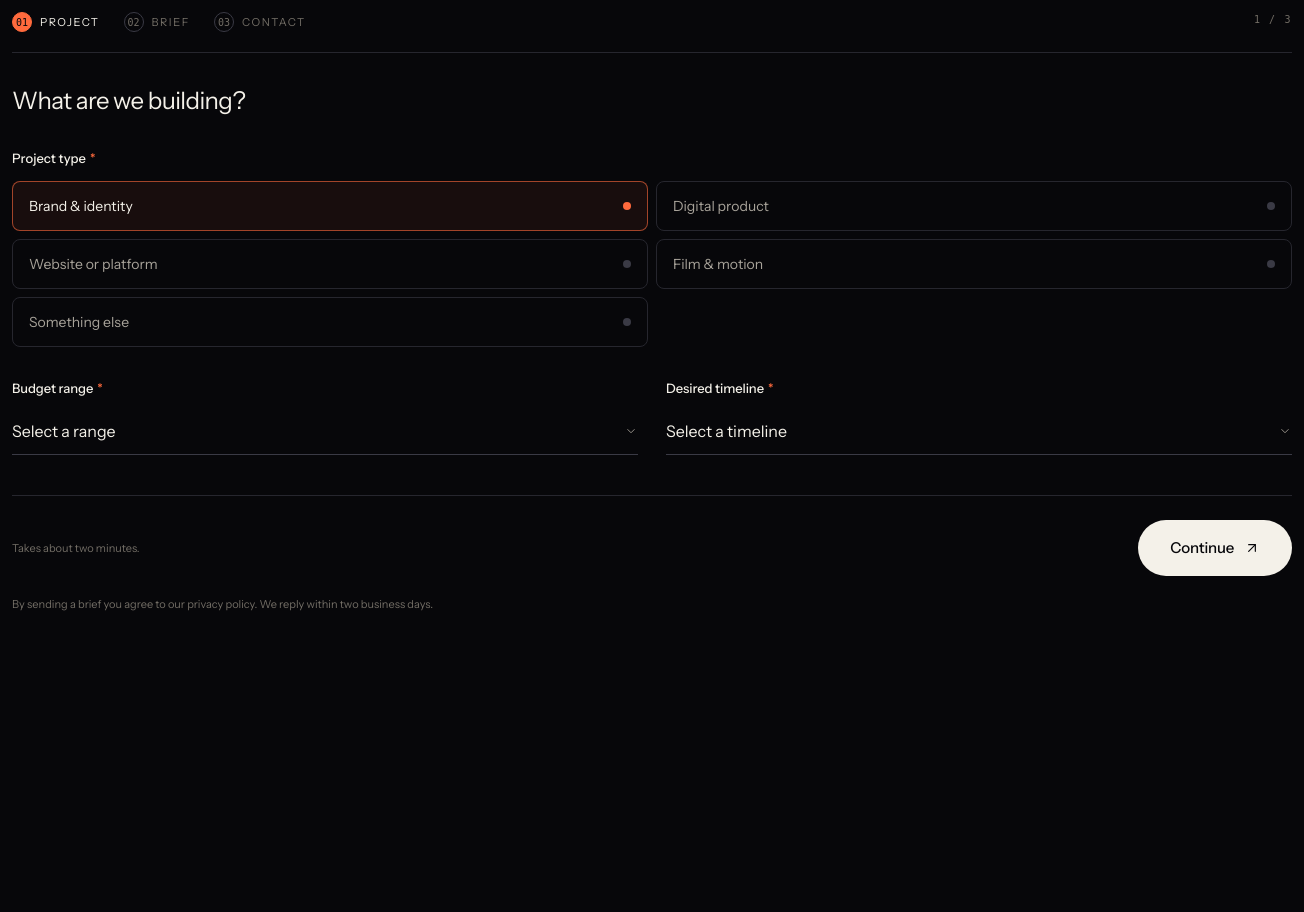
Test: ProjectInquiryForm › blocks progress until required fields on the current step are valid
The image size is (1304, 912).
Click the button "Continue" at (1215, 548), box [1138, 520, 1292, 576]
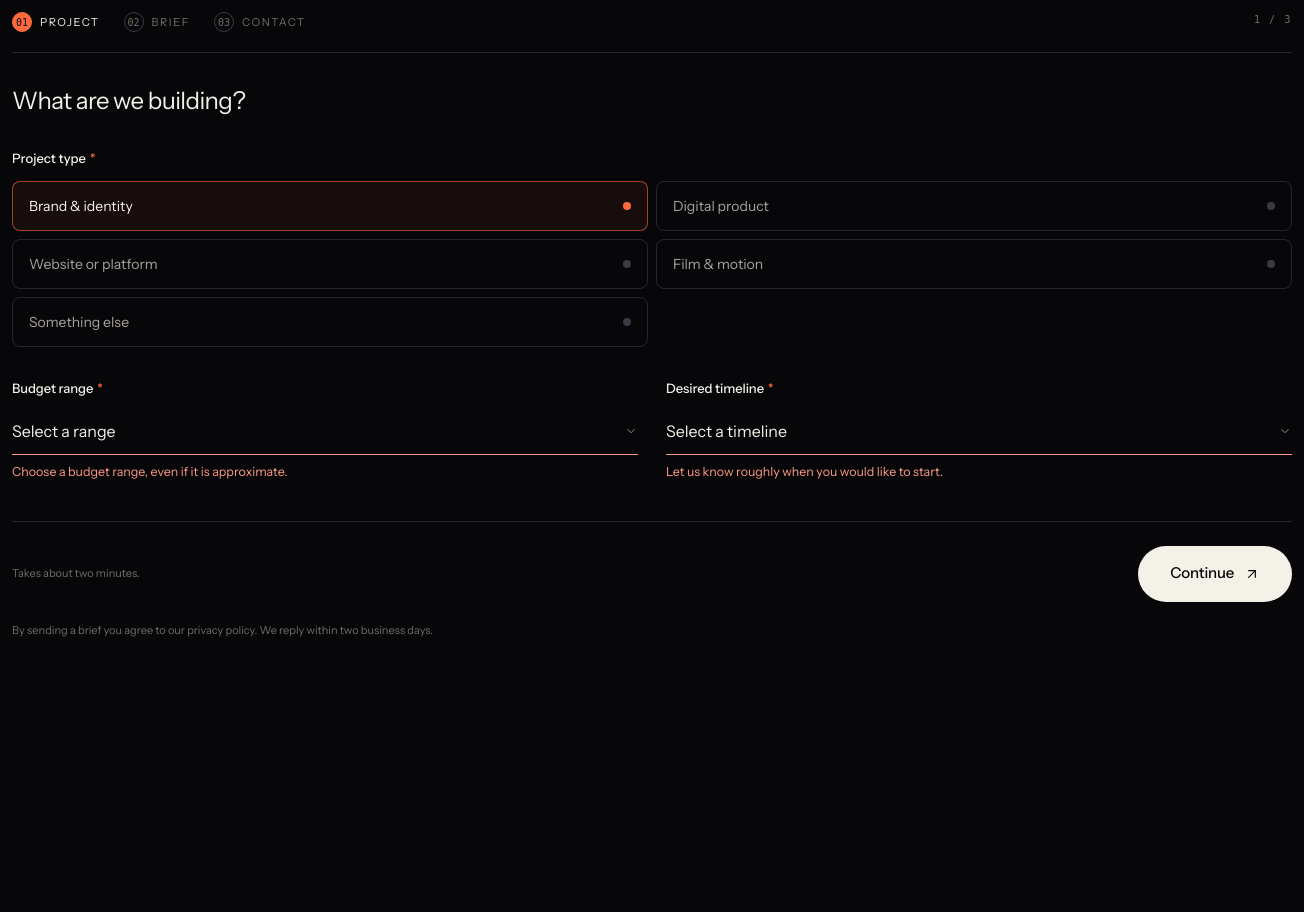
expect the heading "What are we building?" is shown: met, box [12, 86, 245, 115]
expect the text "Choose a budget range, even if it is approximate." is shown: met, box [12, 464, 287, 479]
expect the text "Let us know roughly when you would like to start." is shown: met, box [666, 464, 943, 479]
